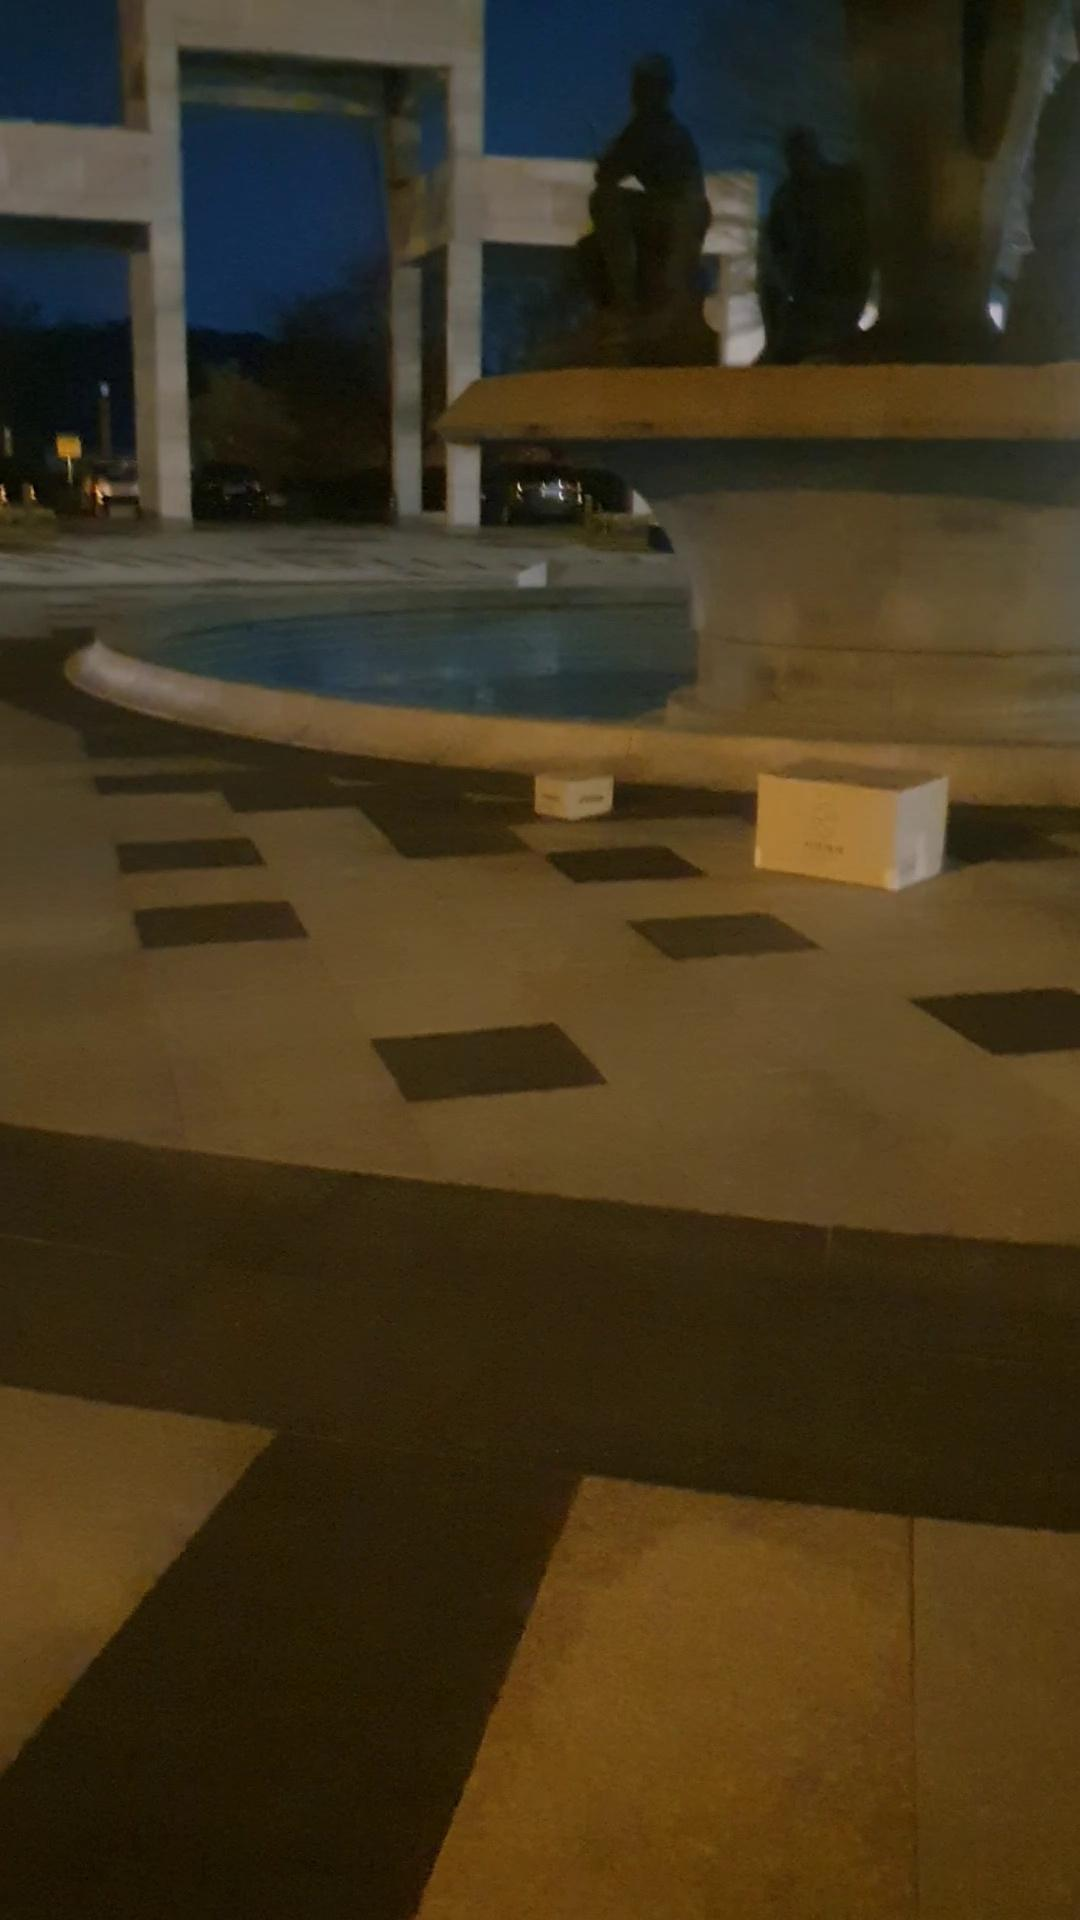Box: (756, 753, 945, 893), (543, 758, 617, 825)
